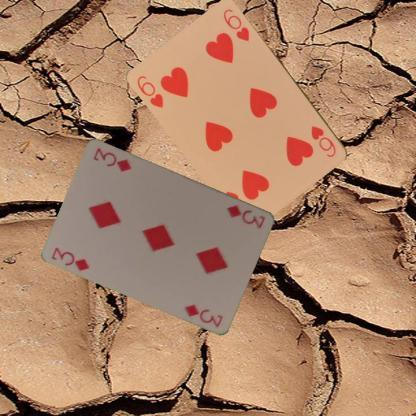3d: (224, 202, 267, 230), (49, 245, 92, 272)
6h: (134, 72, 166, 110), (309, 123, 338, 159)
